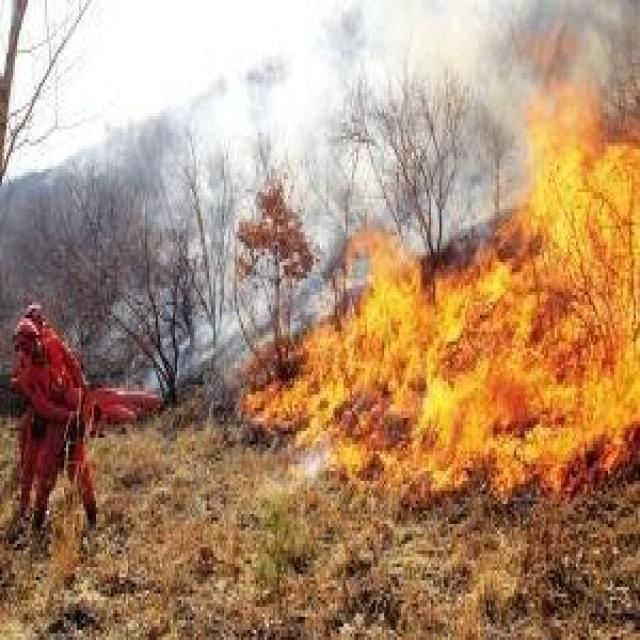fire: (242, 80, 631, 498)
